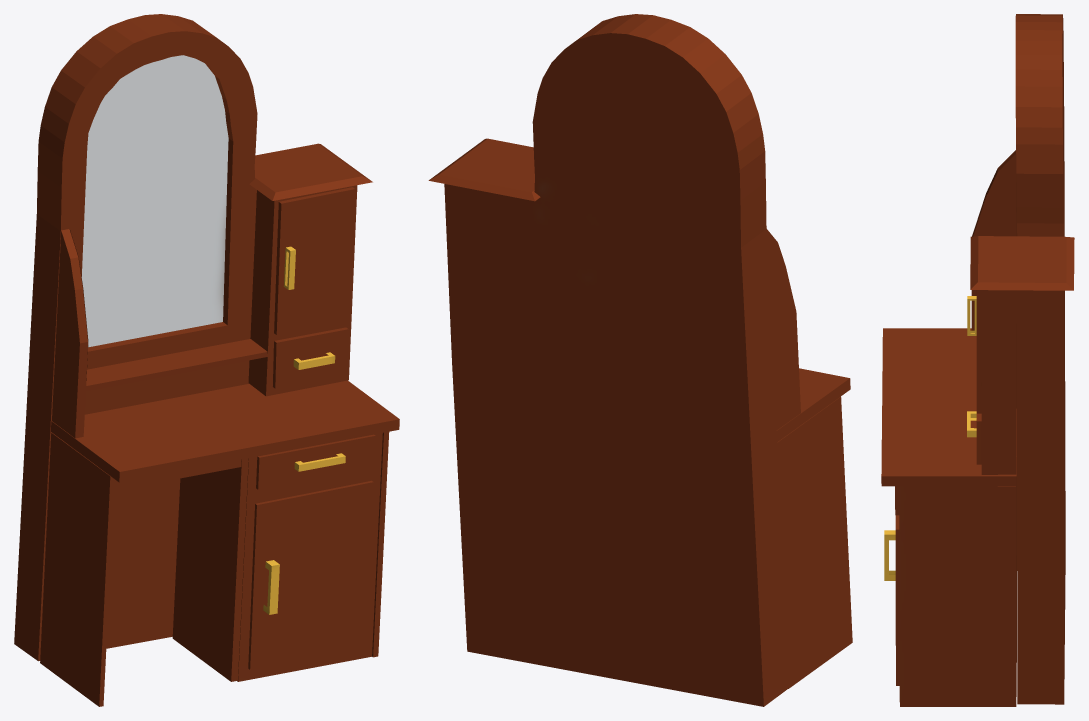
The model's file is dipan3.glb.
3 views of the same model, side by side, from view 1: azimuth 30°, elevation 25°; view 2: azimuth 150°, elevation 25°; view 3: azimuth 270°, elevation 25° (orthographic). The views are drawn at different scales.
Parts seen in each view (by area): view 1: Cube; view 2: Cube; view 3: Cube.
Boxes of the visible parts, <box> form: Cube: <box>14,14,399,706</box>; Cube: <box>428,14,852,706</box>; Cube: <box>881,14,1074,706</box>.
Bounding box in the file's own units: 2.6 × 4.94 × 1.43.
1 material, 1 textured.
